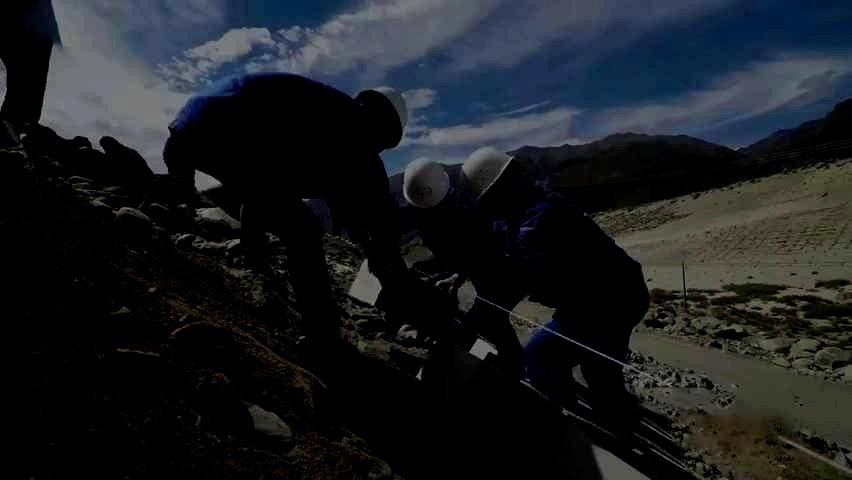helmet: (354, 85, 408, 155), (459, 145, 515, 209), (402, 156, 449, 209)
